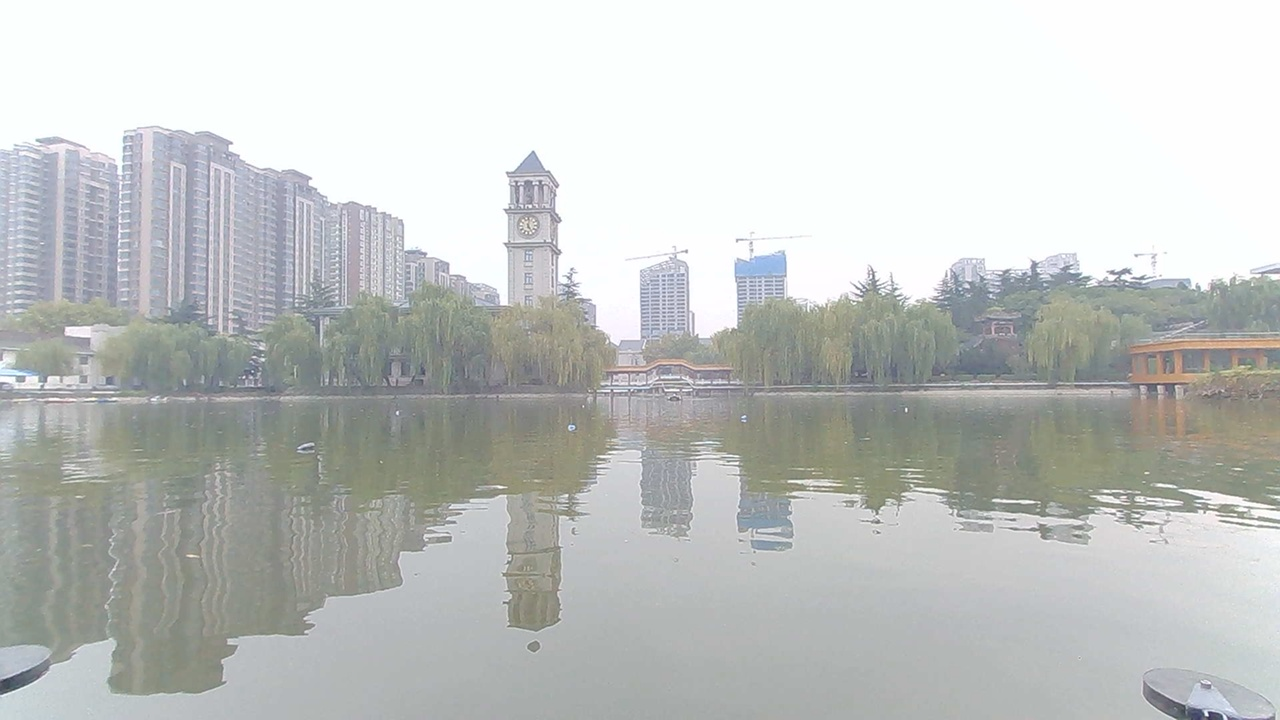bottle: (293, 432, 330, 461), (384, 397, 421, 426), (726, 410, 760, 437), (906, 401, 936, 427), (559, 423, 596, 444), (575, 396, 604, 418)
